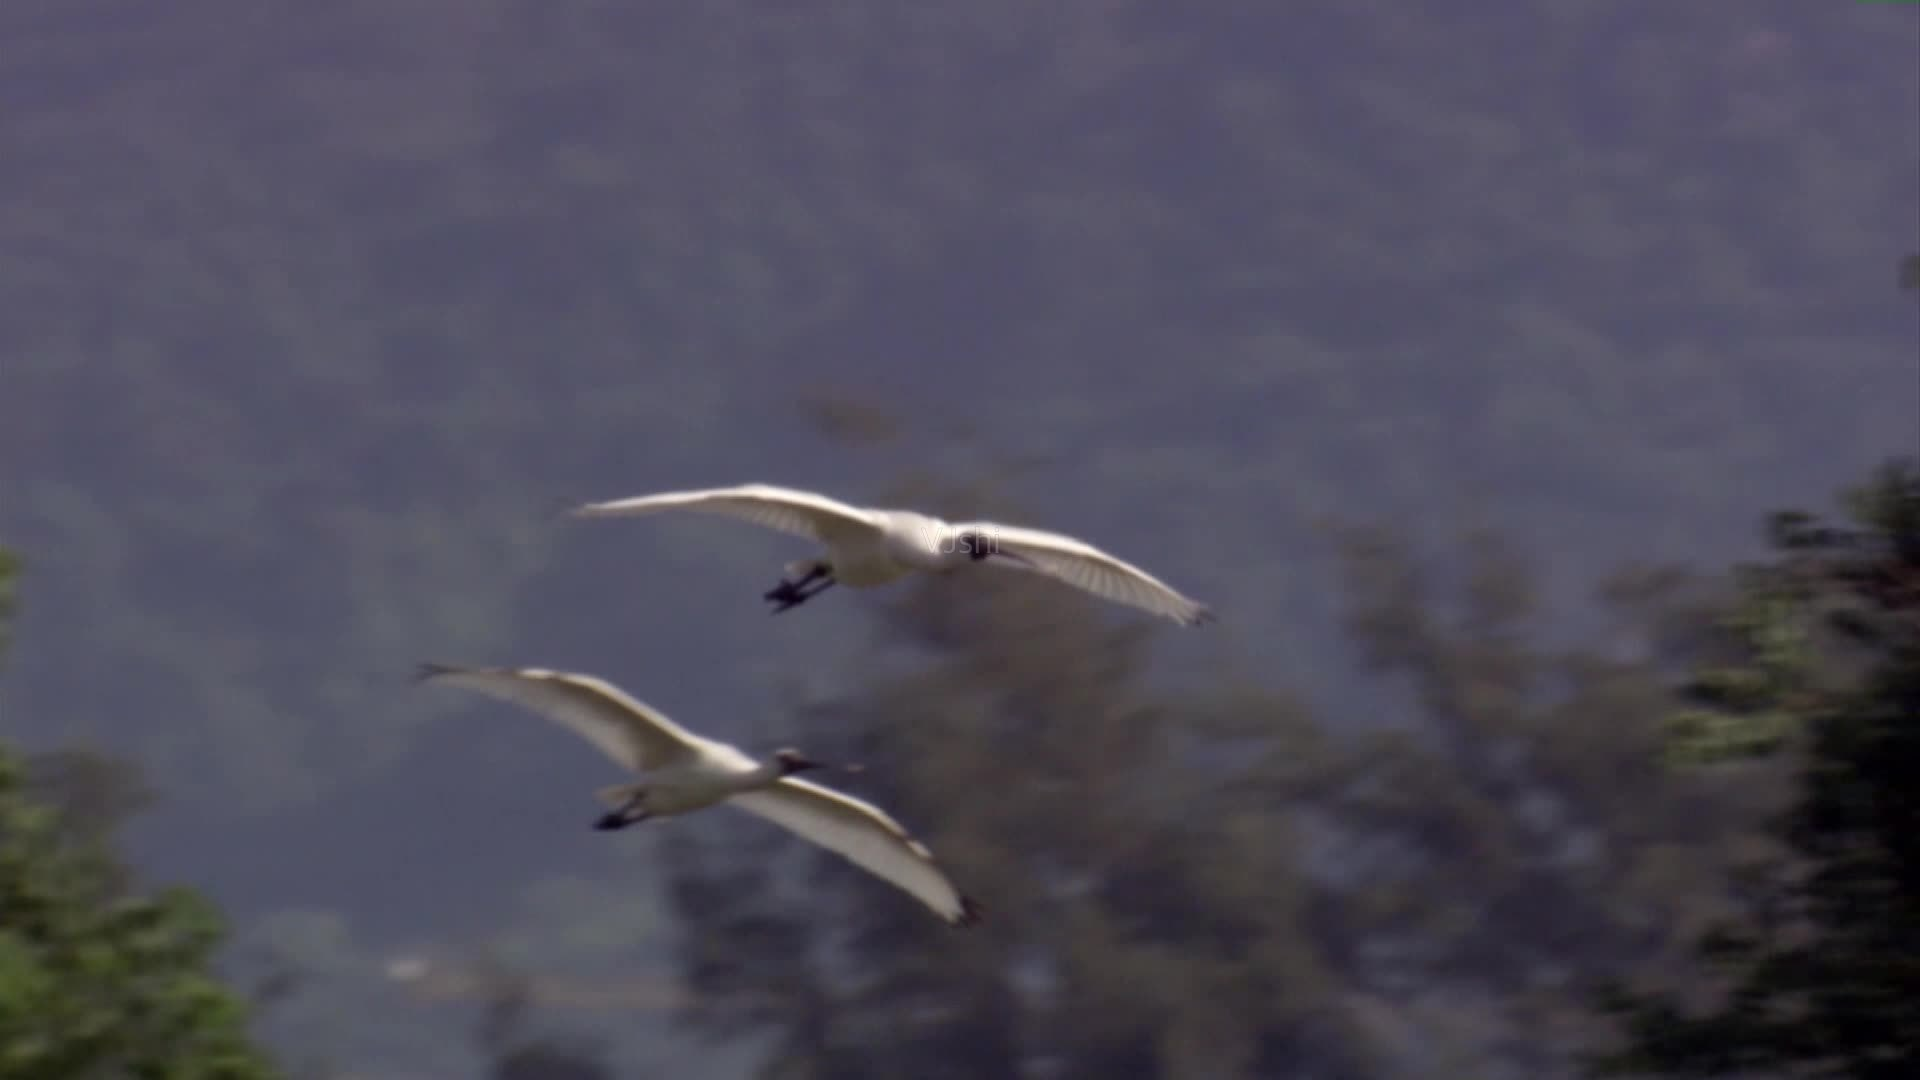bird: (411, 653, 984, 924), (559, 473, 1225, 632)
